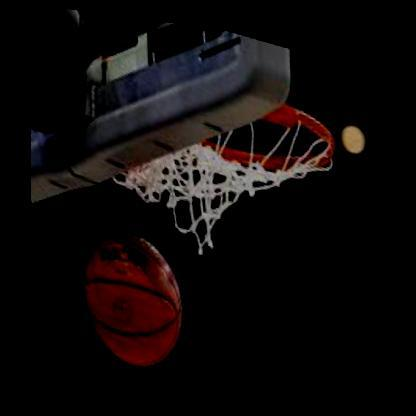basketball: (54, 212, 192, 379)
rim: (167, 66, 345, 196)
